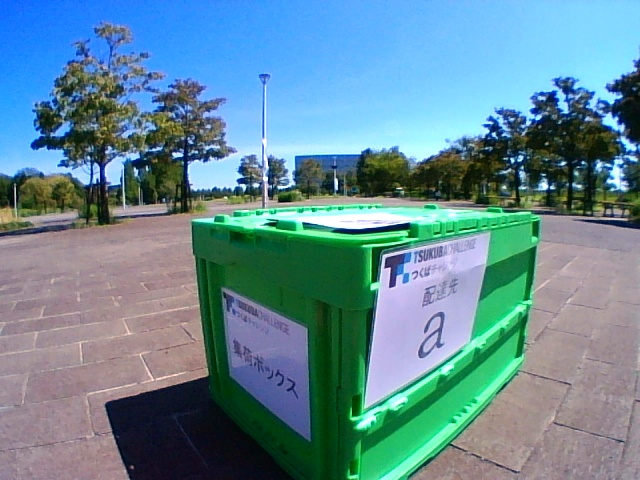green_box: (192, 203, 494, 397)
tag_a: (403, 297, 447, 359)
